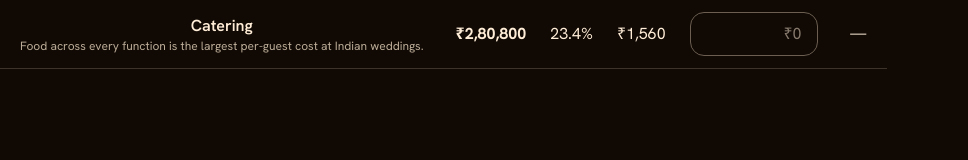
Scenario: BudgetRow spent-so-far error › goes away, with its description, once the value is valid and is saved
The image size is (968, 160).
Step 1. Type "abc" into the field named "spent so far on" → (754, 34), box [690, 12, 818, 56]
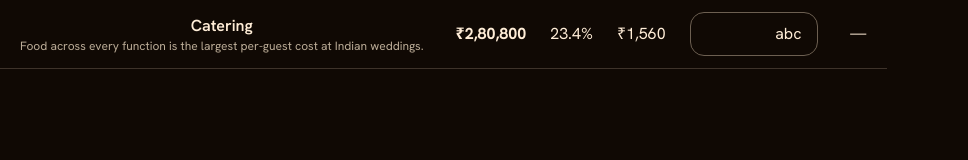
Step 2. Leave the field named "spent so far on", box [690, 12, 818, 56]
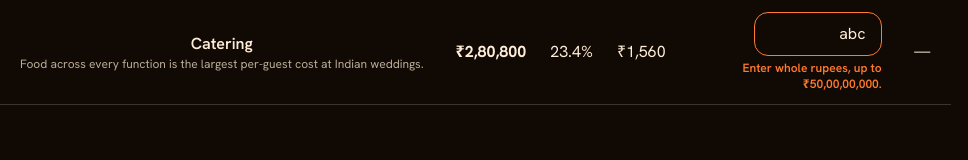
Expected: the message "Enter whole rupees, up to ₹50,00,00,000." is shown, [742, 60, 882, 92]
Step 3. Replace the text in the field named "spent so far on" with "₹5,000" → (818, 34), box [754, 12, 882, 56]
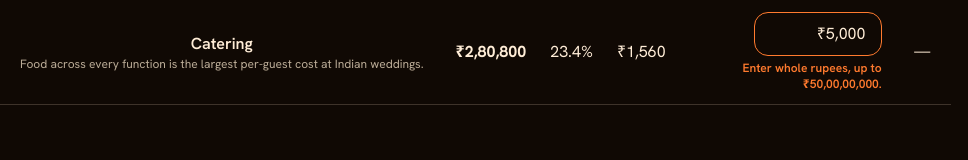
Step 4. Leave the field named "spent so far on", box [754, 12, 882, 56]
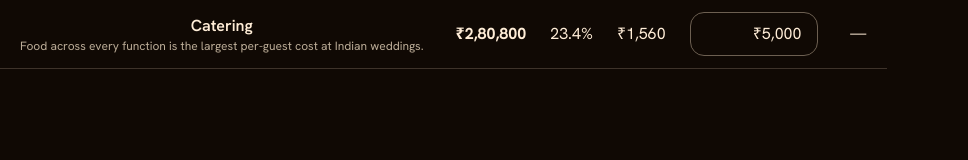
Expected: the message "Enter whole rupees, up to ₹50,00,00,000." is gone
